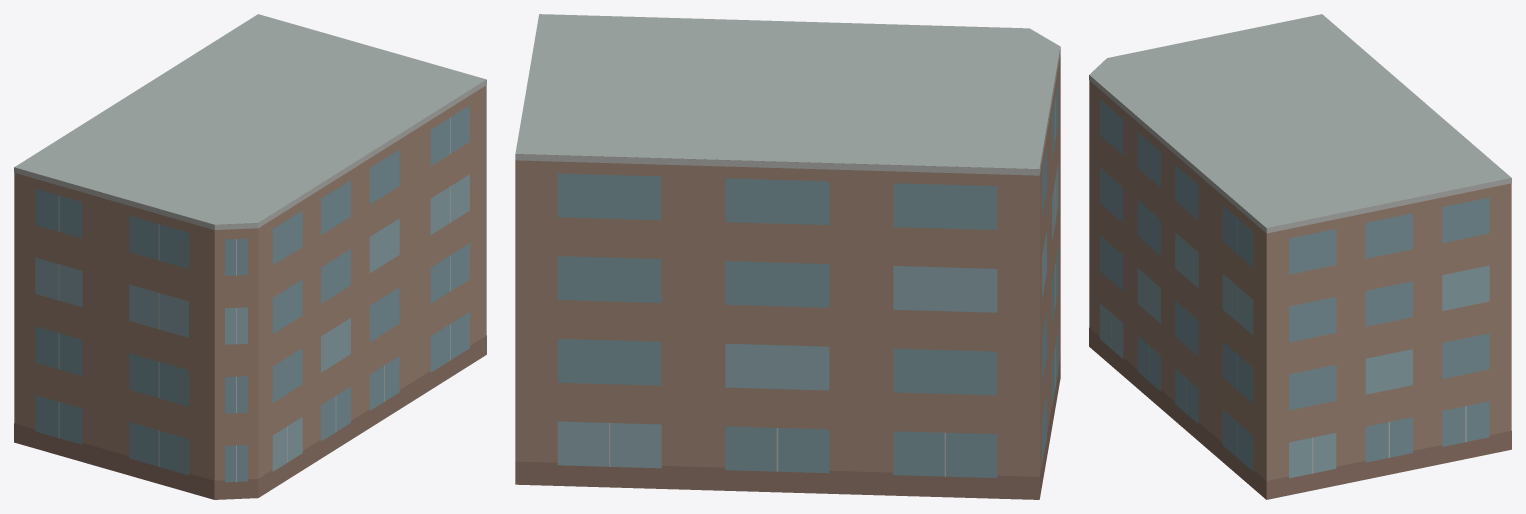
File: survey-upis-32704787.glb
3 views of the same model, side by side, from view 1: azimuth 30°, elevation 25°; view 2: azimuth 150°, elevation 25°; view 3: azimuth 270°, elevation 25° (orthographic). The views are drawn at different scales.
Parts seen in each view (by area): view 1: survey-upis-32704787.tmp; view 2: survey-upis-32704787.tmp; view 3: survey-upis-32704787.tmp.
Boxes of the visible parts, <box> form: survey-upis-32704787.tmp: <box>14,14,486,499</box>; survey-upis-32704787.tmp: <box>515,14,1060,499</box>; survey-upis-32704787.tmp: <box>1089,14,1511,499</box>.
Size of the model in its own units: 20.97 by 12.4 by 17.49.
